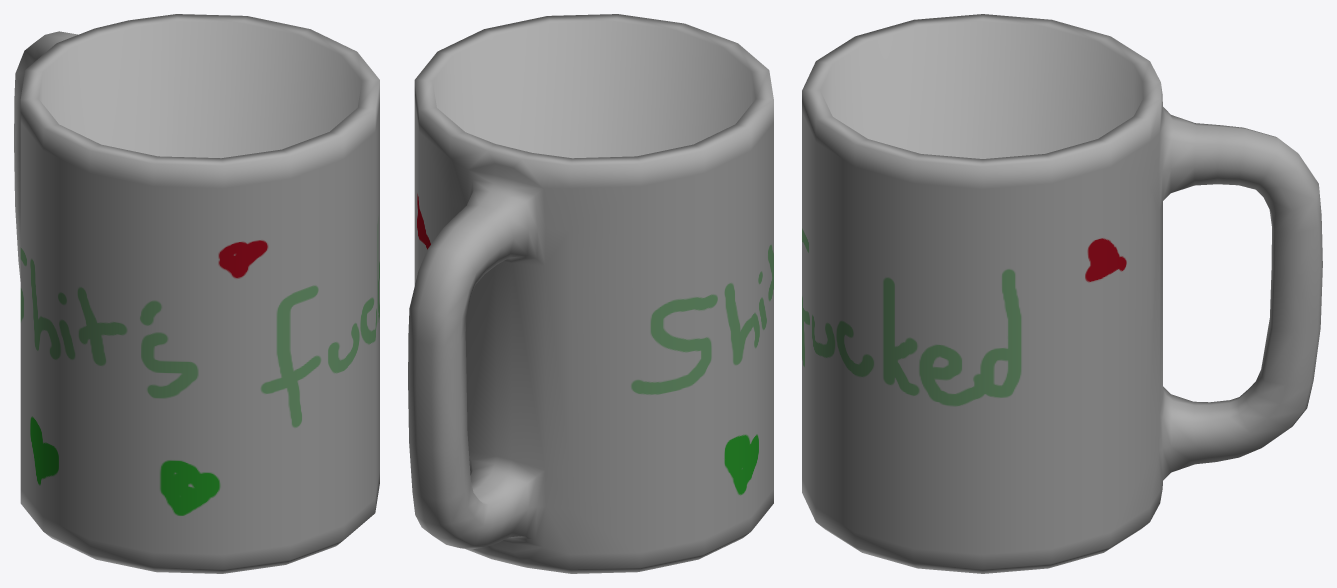
The model's file is SM_CoffeeMug.fbx.
3 views of the same model, side by side, from view 1: azimuth 30°, elevation 25°; view 2: azimuth 150°, elevation 25°; view 3: azimuth 270°, elevation 25° (orthographic).
Visible parts, largest first — view 1: CoffeeMug; view 2: CoffeeMug; view 3: CoffeeMug.
Part boxes in pixels (x1=…): CoffeeMug: x1=14, y1=14, x2=379, y2=573; CoffeeMug: x1=408, y1=14, x2=773, y2=573; CoffeeMug: x1=802, y1=14, x2=1322, y2=573.
Bounding box in the file's own units: 21.44 × 26.92 × 30.87.
